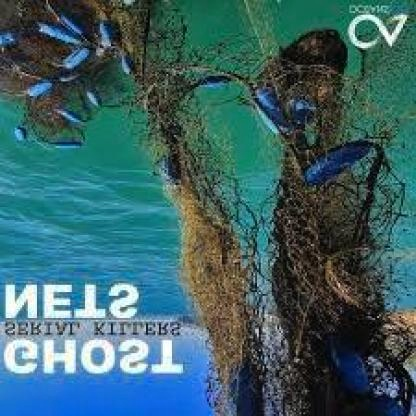net: (181, 66, 393, 416)
